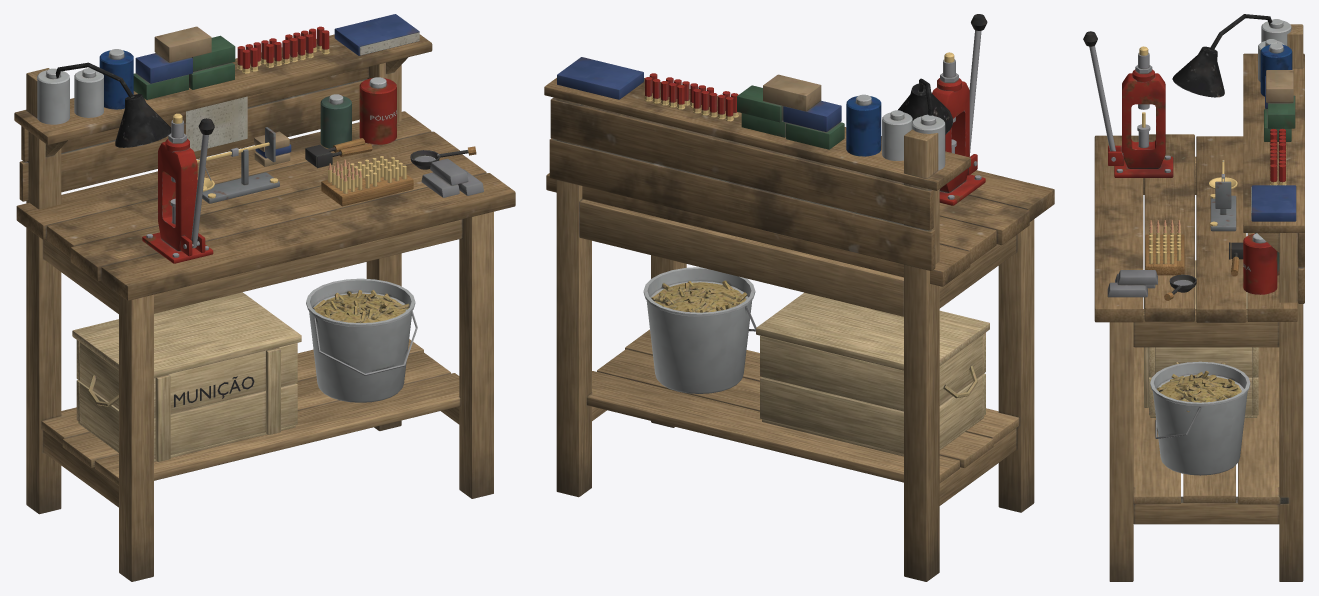
Rendered from bancada_municao.glb.
3 views of the same model, side by side, from view 1: azimuth 30°, elevation 25°; view 2: azimuth 150°, elevation 25°; view 3: azimuth 270°, elevation 25° (orthographic). The views are drawn at different scales.
Visible parts, largest first — view 1: estrutura, embaixo, tampo, prateleira, miudezas, prensa, capsulas, balanca; view 2: estrutura, embaixo, prateleira, tampo, prensa, miudezas; view 3: estrutura, tampo, embaixo, prateleira, miudezas, prensa, capsulas, balanca.
Boxes of the visible parts, bbox=[...] form: estrutura: bbox=[14, 34, 493, 581]; embaixo: bbox=[72, 278, 417, 461]; tampo: bbox=[16, 111, 515, 300]; prateleira: bbox=[37, 14, 419, 124]; miudezas: bbox=[55, 62, 483, 197]; prensa: bbox=[142, 113, 214, 263]; capsulas: bbox=[321, 156, 413, 206]; balanca: bbox=[196, 127, 279, 203]; estrutura: bbox=[544, 78, 1034, 581]; embaixo: bbox=[643, 267, 989, 456]; prateleira: bbox=[557, 57, 945, 170]; tampo: bbox=[546, 170, 1054, 286]; prensa: bbox=[932, 14, 987, 205]; miudezas: bbox=[898, 78, 952, 134]; estrutura: bbox=[1109, 24, 1304, 581]; tampo: bbox=[1094, 134, 1297, 322]; embaixo: bbox=[1144, 260, 1258, 475]; prateleira: bbox=[1251, 19, 1296, 221]; miudezas: bbox=[1107, 14, 1279, 300]; prensa: bbox=[1083, 31, 1173, 177]; capsulas: bbox=[1145, 220, 1184, 275]; balanca: bbox=[1209, 160, 1237, 231].
Size of the model in its own units: 1.21 by 1.35 by 0.647.
Materials: 3 (3 with a texture image).
